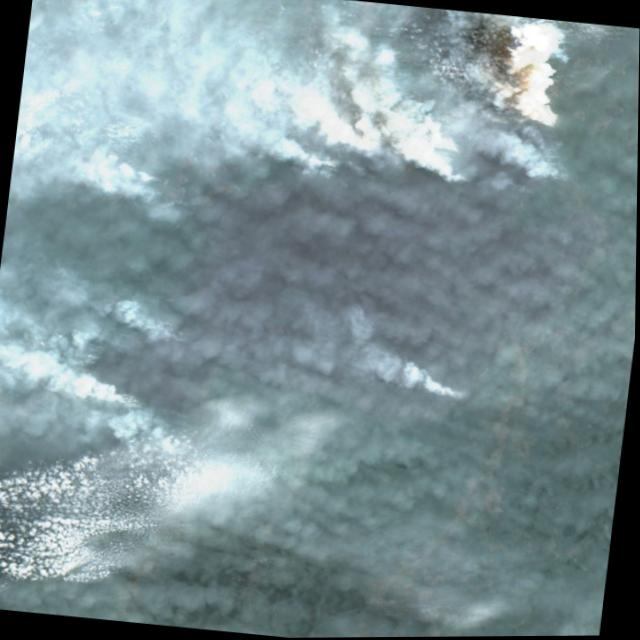fire: (67, 308, 222, 464), (435, 96, 581, 200), (114, 158, 194, 215), (330, 104, 407, 160), (440, 374, 496, 409)
